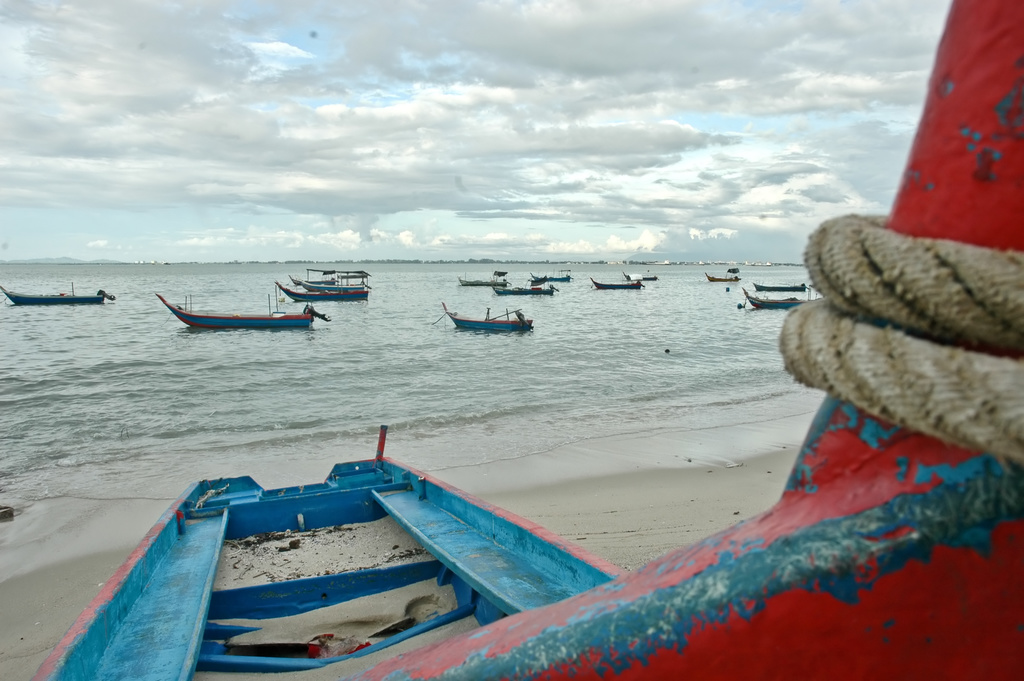boat: (149, 286, 329, 339), (1, 268, 134, 321), (427, 291, 542, 346), (266, 277, 377, 306), (734, 286, 815, 318), (489, 276, 560, 305), (444, 264, 511, 290), (589, 274, 652, 299), (702, 260, 748, 290), (751, 277, 816, 297)
